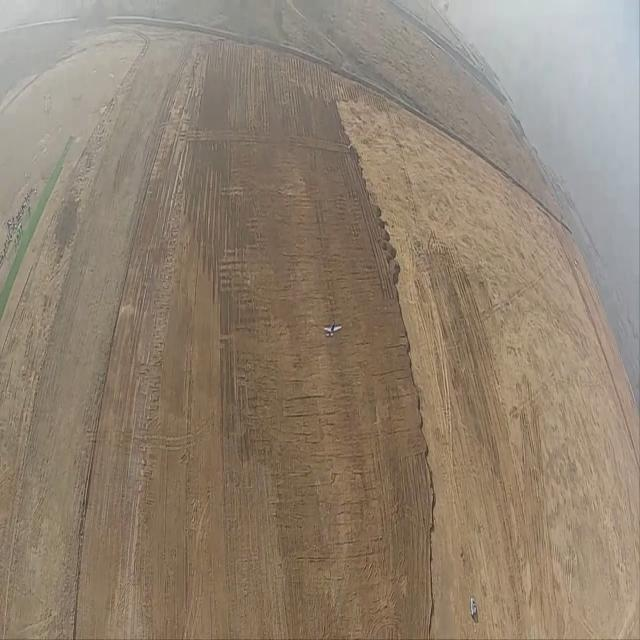iha: (313, 309, 335, 332)
